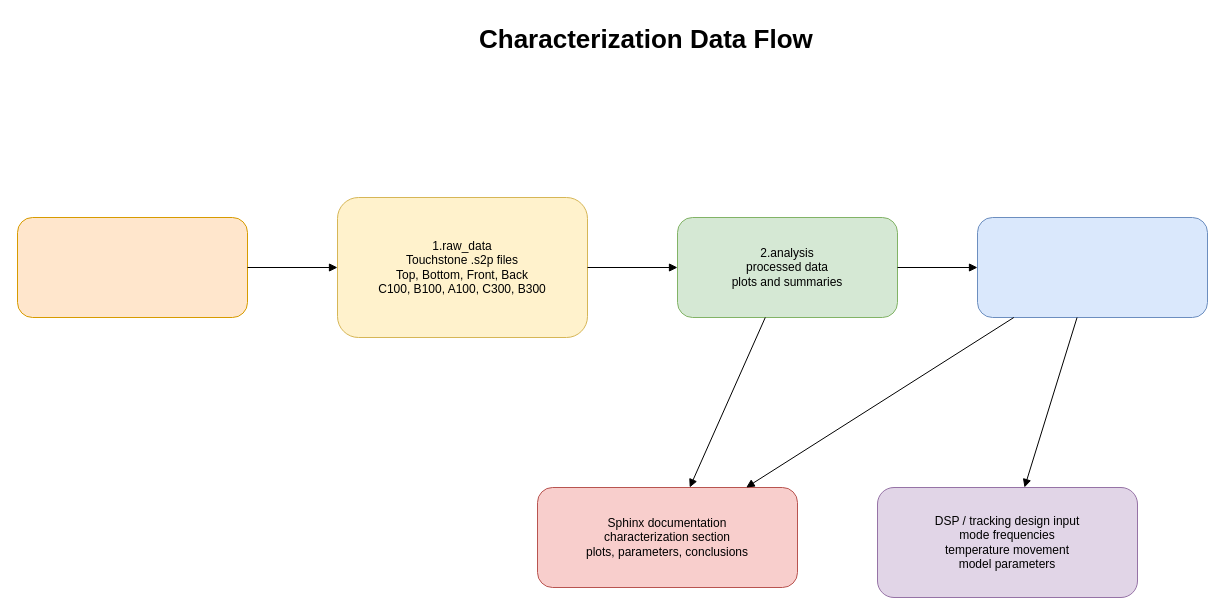
Image size: 1225x615. Some labels were removed from this diagram. The centre of each missing label's shape, as x and y in pixels:
"3.model BVD extraction multi-mode crystal model" goes at (x=1092, y=267).
"Crystal / analog board VNA + temperature chamber orientation setup" goes at (x=132, y=267).
